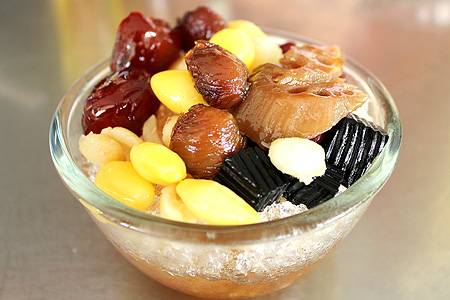O-eo: (50, 6, 404, 295)
